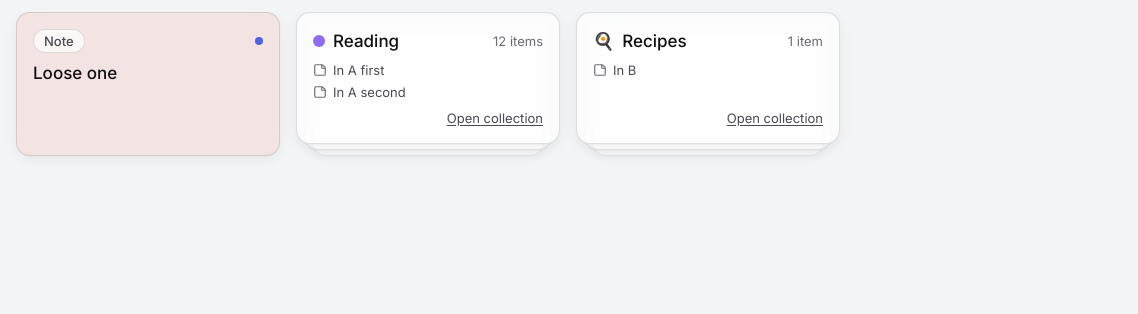
Test: collection folders in the grid › opens a folder to its cards across pages, and collapses it again
Click the button named "Open folder Reading, 12 items".
click(428, 78)  # box 297,13 -> 559,143
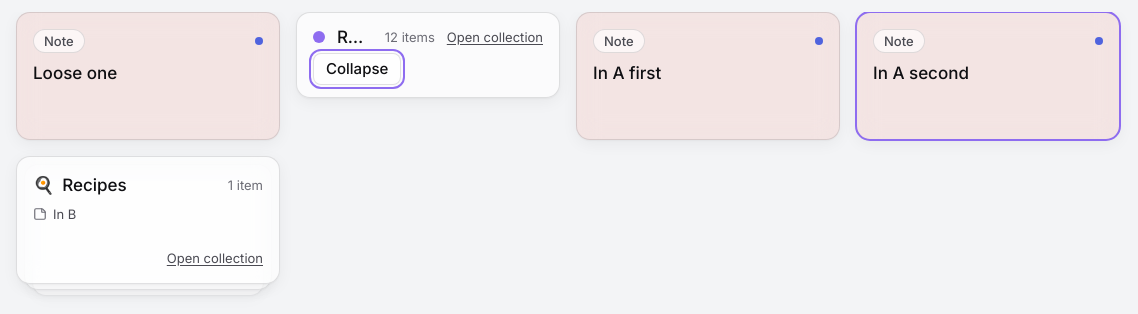
Result: the button named "Open In A second" is shown at 857,13 -> 1119,139
Result: the button named "Open In A first" is shown at 577,13 -> 839,139
Click the button with aria-label "Collapse folder Reading".
click(357, 69)  # box 313,53 -> 401,85
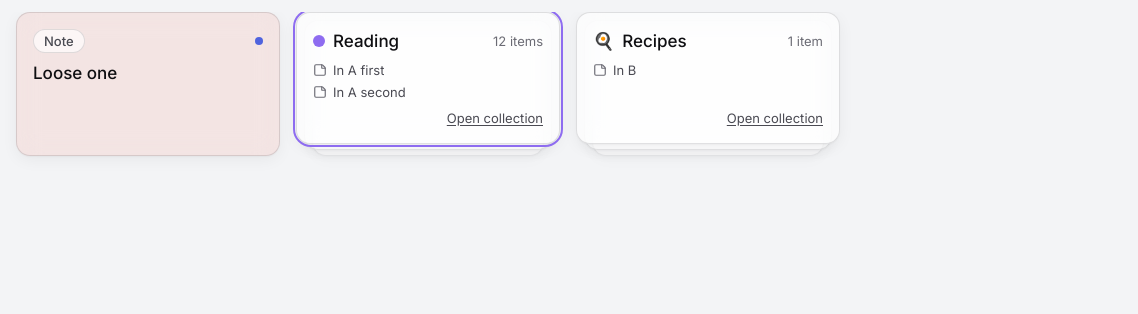
Result: the button named "Open folder Reading, 12 items" is shown at 297,13 -> 559,143
